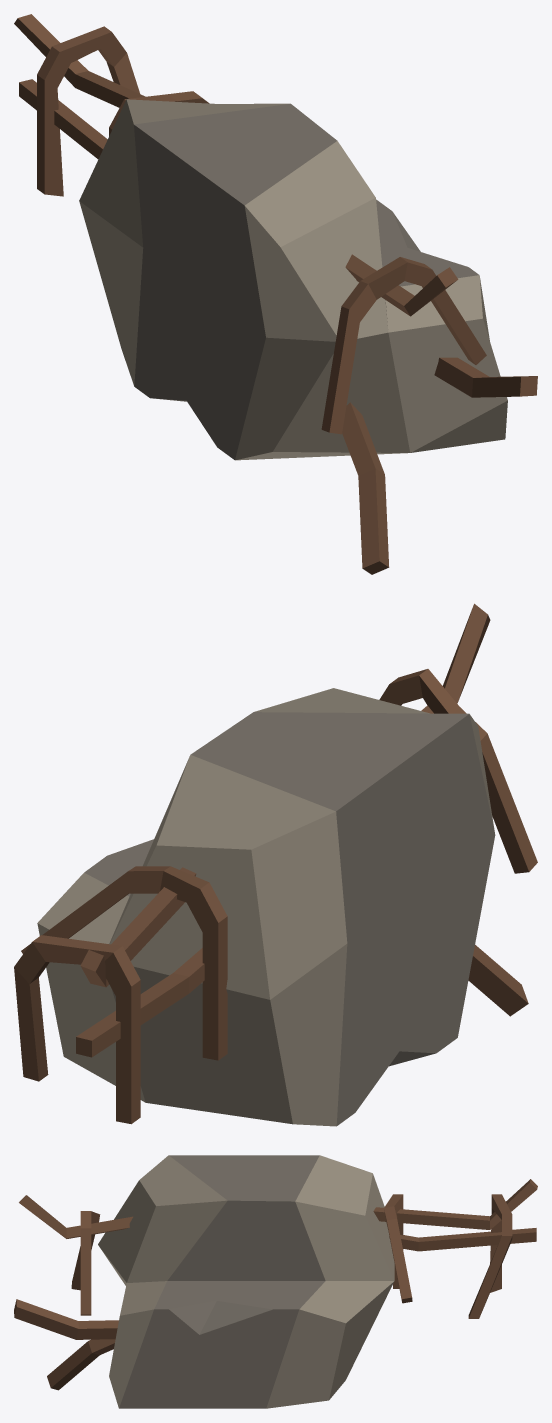
Rendered from SM_Prop_Rubble_Concrete_03.fbx.
The picture shows the model from 3 angles, top to bottom: view 1: azimuth 30°, elevation 25°; view 2: azimuth 150°, elevation 25°; view 3: azimuth 270°, elevation 25°; orthographic projection. The views are drawn at different scales.
Parts seen in each view (by area): view 1: SM_Prop_Rubble_Concrete_03; view 2: SM_Prop_Rubble_Concrete_03; view 3: SM_Prop_Rubble_Concrete_03.
Boxes of the visible parts, left/top/right/bottom form: SM_Prop_Rubble_Concrete_03: left=14, top=14, right=537, bottom=574; SM_Prop_Rubble_Concrete_03: left=14, top=603, right=537, bottom=1126; SM_Prop_Rubble_Concrete_03: left=14, top=1155, right=537, bottom=1408.
Bounding box in the file's own units: 52.89 × 71.02 × 154.
